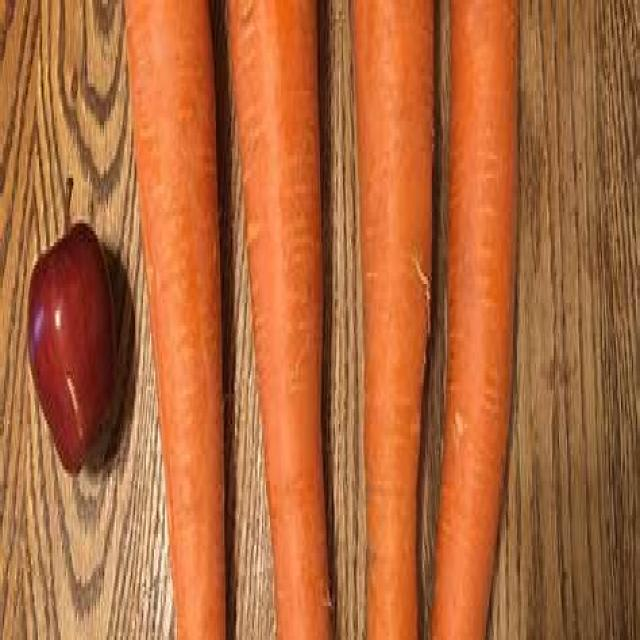Apple: (18, 226, 111, 464)
Carrot: (226, 1, 342, 640), (120, 0, 226, 640), (431, 5, 524, 640), (350, 0, 434, 640)
